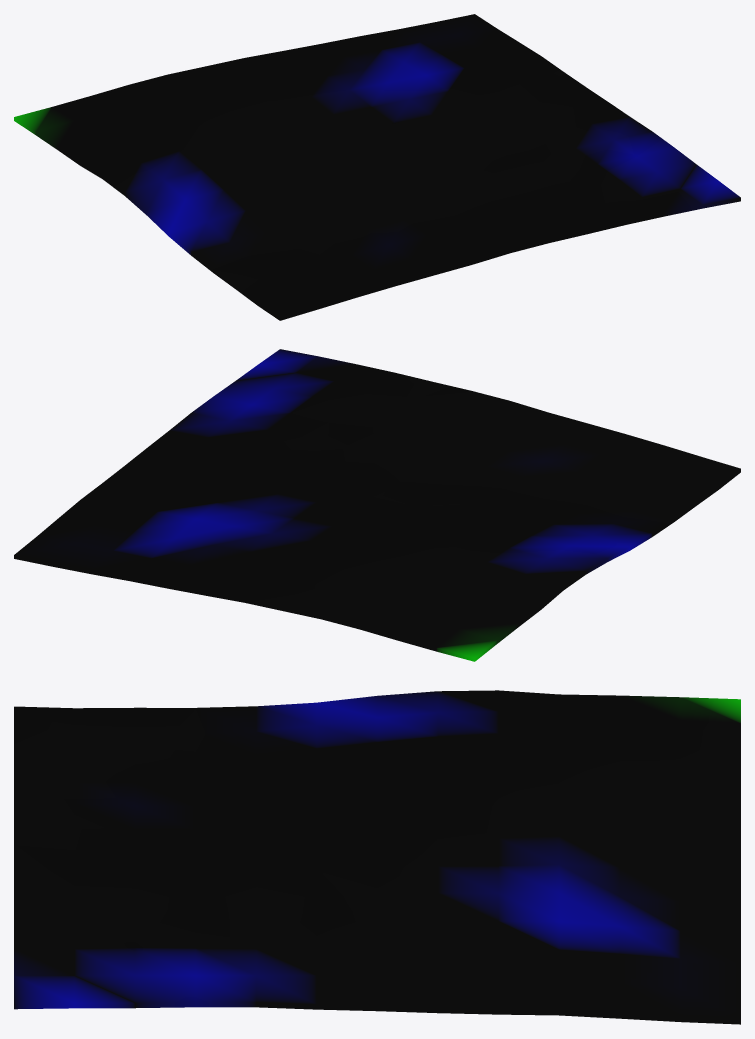
File: coast_10_0.glb
3 views of the same model, one above another, from view 1: azimuth 30°, elevation 25°; view 2: azimuth 150°, elevation 25°; view 3: azimuth 270°, elevation 25° (orthographic). The views are drawn at different scales.
Visible parts, largest first — view 1: terrain; view 2: terrain; view 3: terrain.
Boxes of the visible parts, bbox=[...] form: terrain: bbox=[14, 14, 740, 320]; terrain: bbox=[14, 349, 740, 661]; terrain: bbox=[14, 690, 740, 1024].
Size of the model in its own units: 192 by 10.96 by 192.
